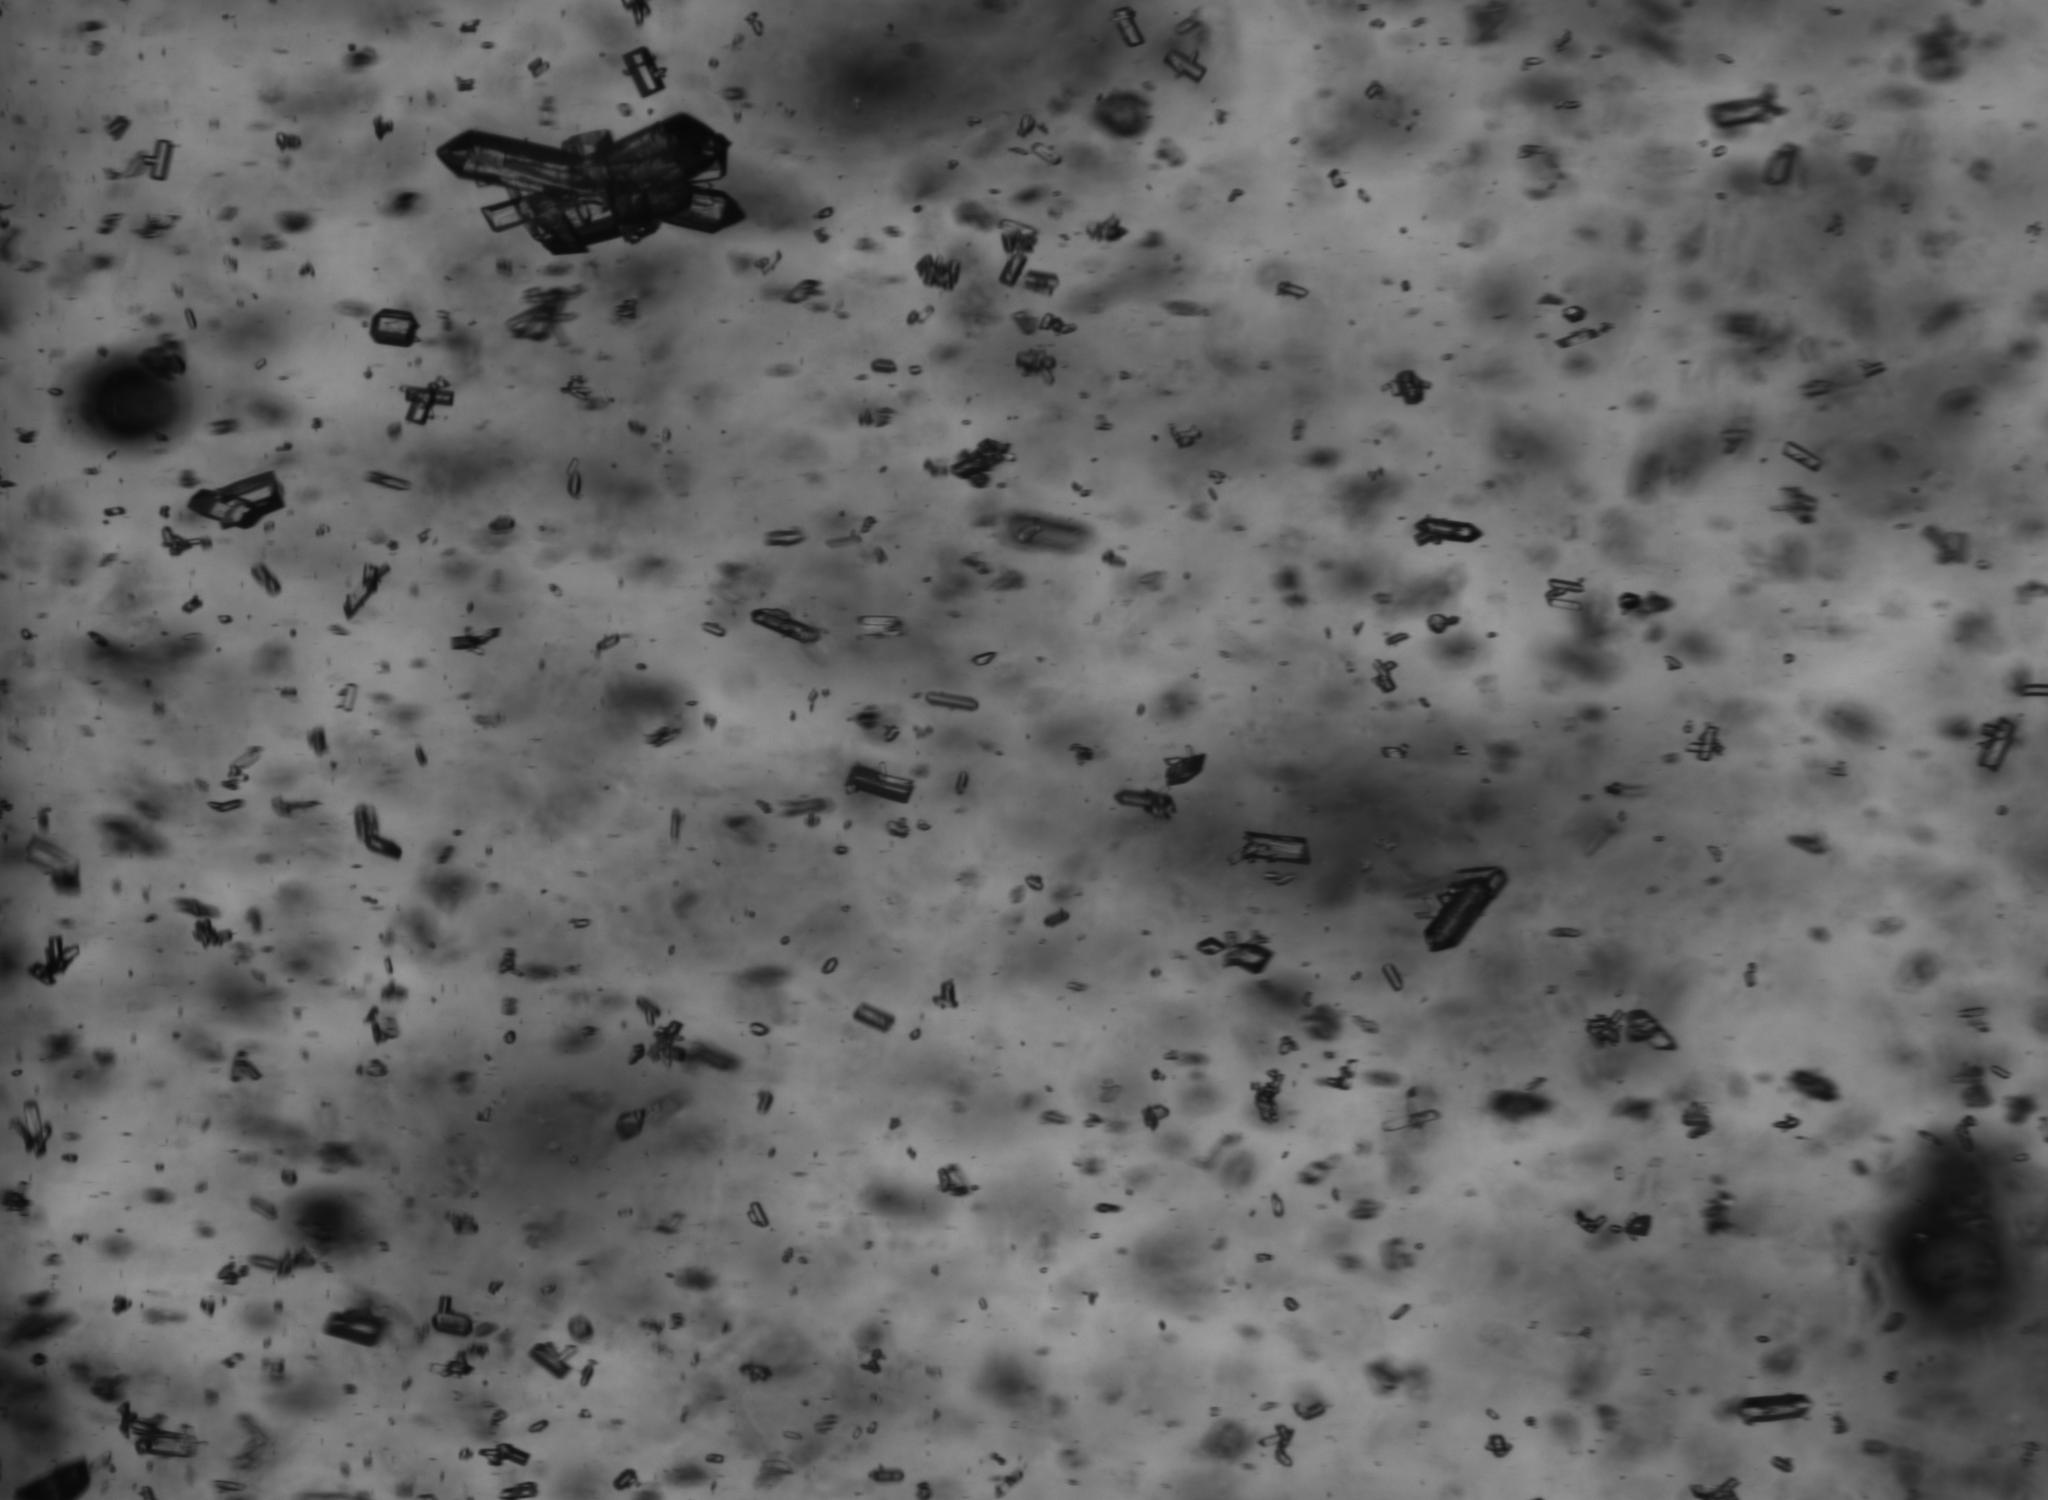crystal: (437, 113, 743, 255), (1425, 867, 1507, 951), (186, 471, 285, 530), (118, 1403, 199, 1460), (1585, 1007, 1678, 1051), (949, 437, 1011, 488), (1196, 934, 1274, 973), (1708, 92, 1781, 134), (1727, 1392, 1813, 1425), (846, 762, 914, 803), (324, 1303, 388, 1346), (342, 563, 390, 620), (10, 1099, 54, 1158), (751, 608, 822, 644), (29, 934, 78, 985), (1240, 830, 1310, 865), (1976, 716, 2018, 773), (404, 379, 453, 425), (622, 46, 666, 97), (1412, 515, 1482, 546), (367, 309, 420, 347), (528, 1341, 577, 1379), (1250, 1069, 1283, 1125), (1115, 789, 1175, 819), (431, 1296, 474, 1338), (916, 255, 964, 291), (1379, 1107, 1442, 1134), (1387, 369, 1431, 406), (1162, 46, 1207, 83), (647, 1020, 684, 1063), (1014, 347, 1057, 383), (140, 138, 175, 181), (1555, 323, 1612, 348), (1259, 1425, 1293, 1468), (1166, 752, 1207, 786), (1781, 439, 1822, 472), (1542, 579, 1584, 612), (1684, 725, 1722, 760), (428, 1350, 474, 1379), (1113, 6, 1145, 48), (919, 690, 979, 711), (1767, 145, 1797, 186), (852, 1004, 895, 1032), (938, 1164, 975, 1198), (450, 628, 501, 652), (999, 221, 1037, 253), (161, 527, 202, 555), (997, 250, 1029, 286), (1084, 215, 1127, 242), (480, 1443, 529, 1465), (364, 469, 412, 492), (614, 1107, 647, 1139), (364, 834, 402, 861), (1371, 657, 1398, 695), (859, 616, 903, 636), (251, 563, 281, 593), (1571, 1209, 1606, 1234), (1027, 142, 1062, 165), (499, 1479, 539, 1500), (932, 978, 959, 1008), (1040, 313, 1076, 334), (1623, 1214, 1652, 1239), (1428, 612, 1460, 635), (1142, 1104, 1169, 1129), (747, 1199, 771, 1228), (1484, 1433, 1512, 1457), (1275, 280, 1309, 299), (566, 460, 582, 498), (340, 682, 359, 714), (207, 797, 243, 813), (766, 530, 803, 546), (1383, 962, 1402, 993), (614, 1468, 638, 1492), (178, 595, 205, 614), (1561, 304, 1585, 324), (2018, 682, 2048, 698), (1173, 429, 1200, 447), (221, 1352, 246, 1370), (700, 620, 725, 638), (749, 1020, 771, 1037), (970, 651, 997, 665), (870, 358, 897, 372), (820, 956, 840, 975), (1363, 81, 1382, 100), (1380, 746, 1407, 759), (1270, 1193, 1285, 1217), (1024, 875, 1043, 892), (882, 724, 900, 743), (1385, 633, 1410, 646), (579, 1366, 593, 1389), (956, 771, 968, 795), (528, 1419, 549, 1433), (103, 506, 126, 519), (704, 1452, 723, 1463), (1283, 1298, 1299, 1311), (504, 1029, 515, 1045), (218, 614, 235, 624), (835, 845, 846, 856)
